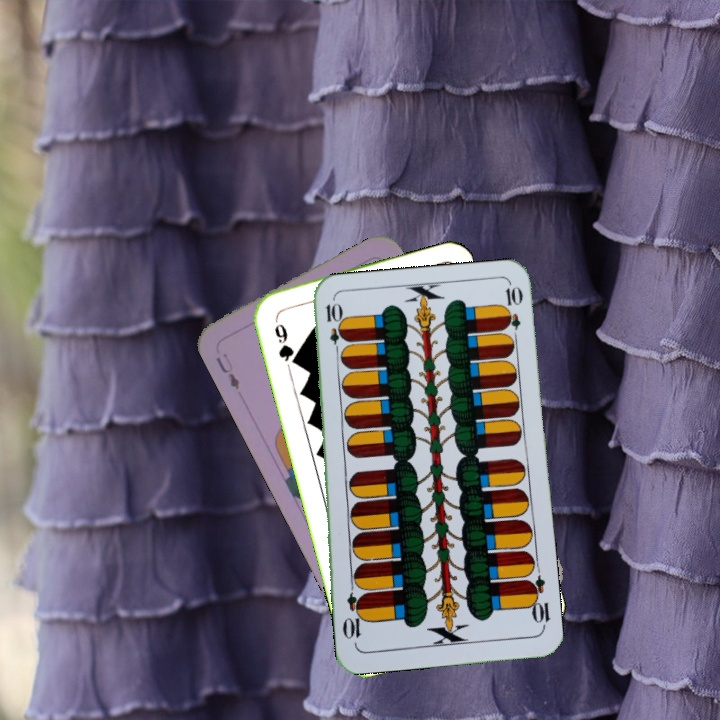E10: (523, 572, 552, 631), (322, 299, 344, 358)
EU: (211, 349, 242, 393)
G9: (270, 313, 300, 368)
